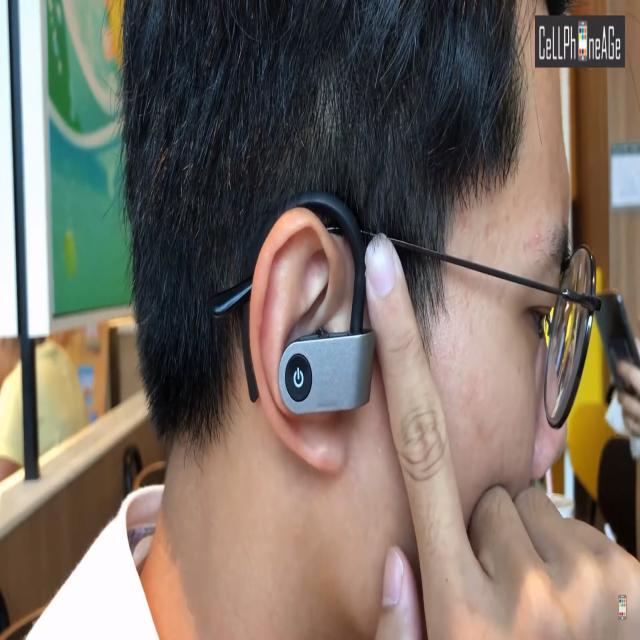airpods: (239, 189, 377, 415)
